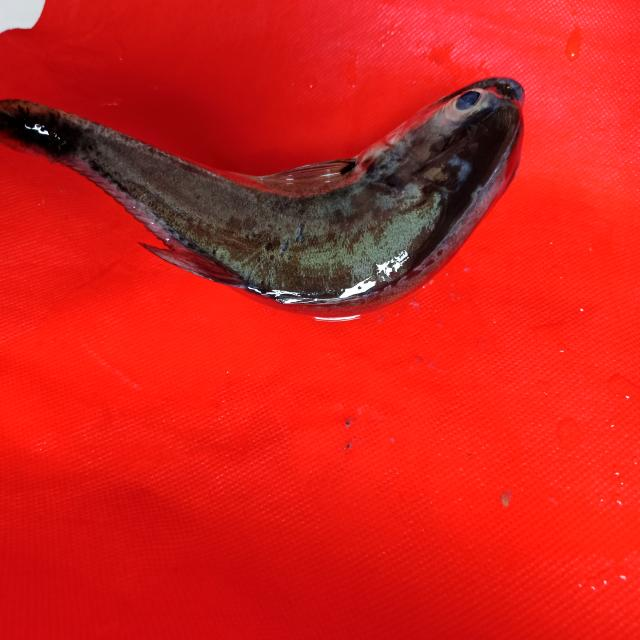ikan: (6, 42, 546, 343)
